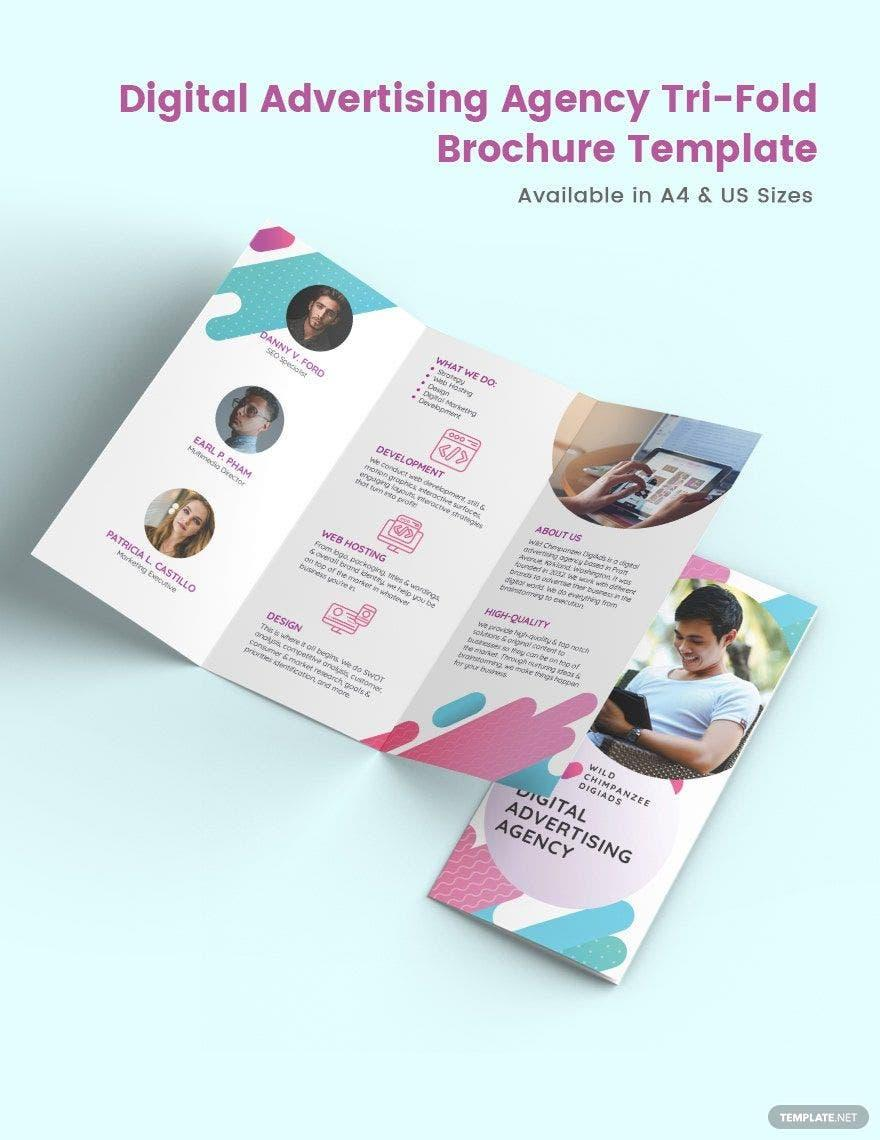paper: (34, 229, 803, 986)
